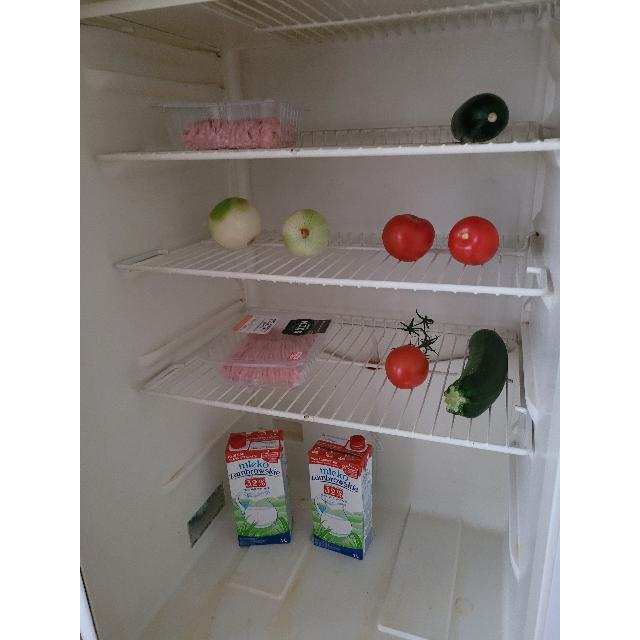meat: (221, 330, 319, 384), (182, 116, 298, 150)
milk: (308, 432, 374, 560), (225, 428, 291, 548)
onion: (207, 197, 261, 250), (282, 208, 330, 256)
tomato: (447, 216, 499, 268), (381, 214, 432, 262), (384, 344, 430, 390)
zucchini: (444, 328, 508, 418), (451, 92, 511, 144)
